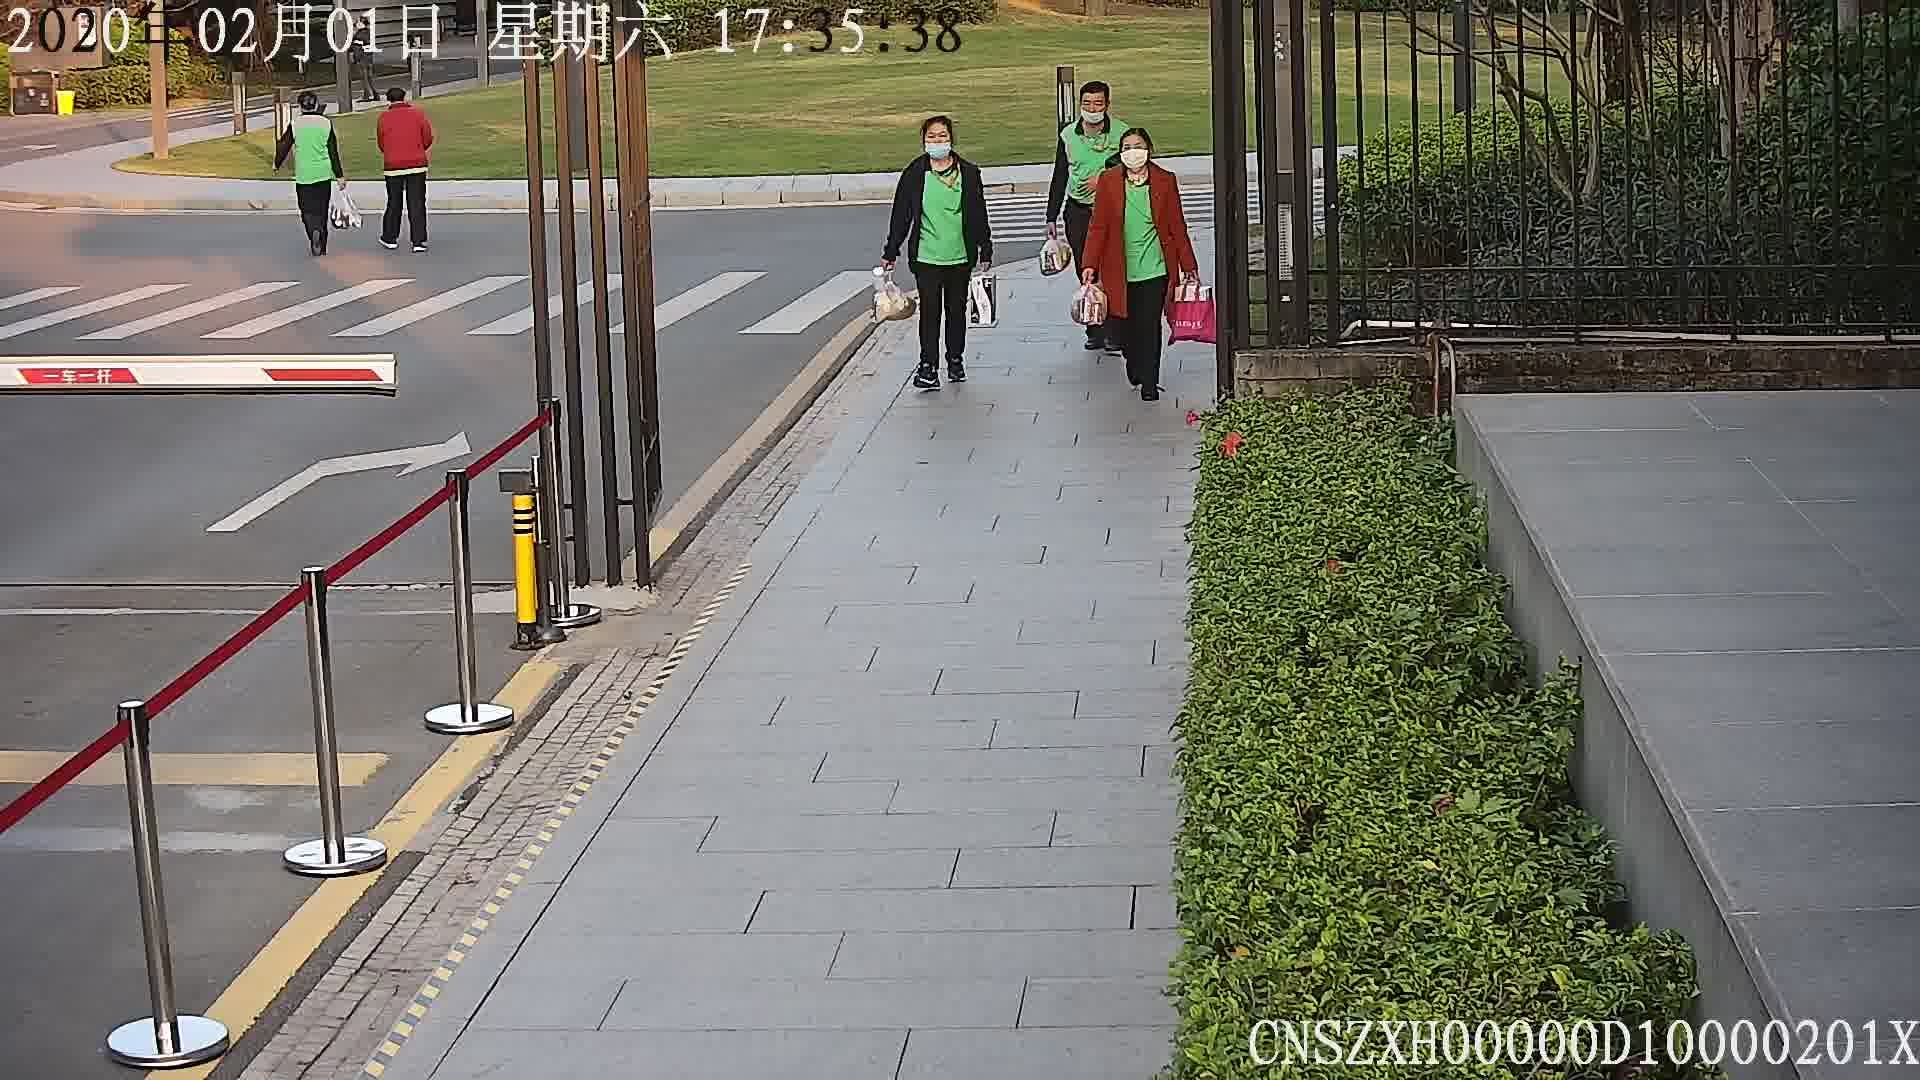face: (924, 119, 953, 161), (1080, 90, 1108, 127), (1122, 136, 1148, 172)
mask: (1122, 149, 1148, 167), (926, 141, 951, 159), (1082, 110, 1103, 126)
person: (1092, 125, 1178, 194), (904, 112, 982, 184), (1056, 78, 1131, 150), (282, 91, 338, 137), (376, 85, 431, 127)
